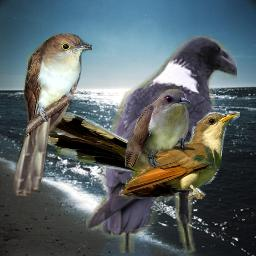Crow: (86, 35, 237, 253)
Cuckoo: (43, 112, 240, 199), (13, 32, 92, 196), (125, 89, 192, 167)
